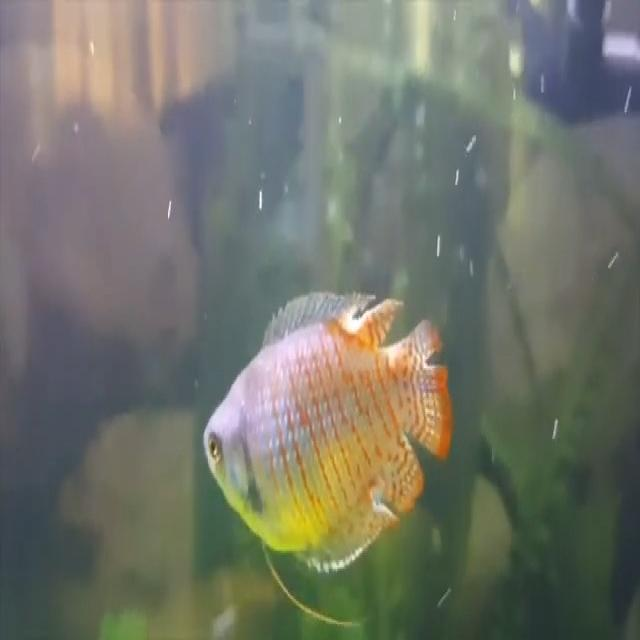fish: (202, 287, 457, 570)
